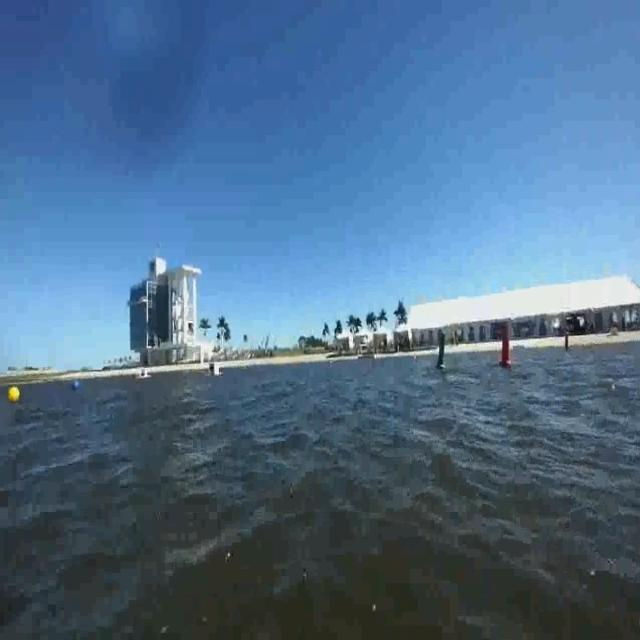green-column-buoy: (437, 328, 449, 373)
red-column-buoy: (498, 326, 516, 374)
yellow-buoy: (8, 384, 20, 404)
